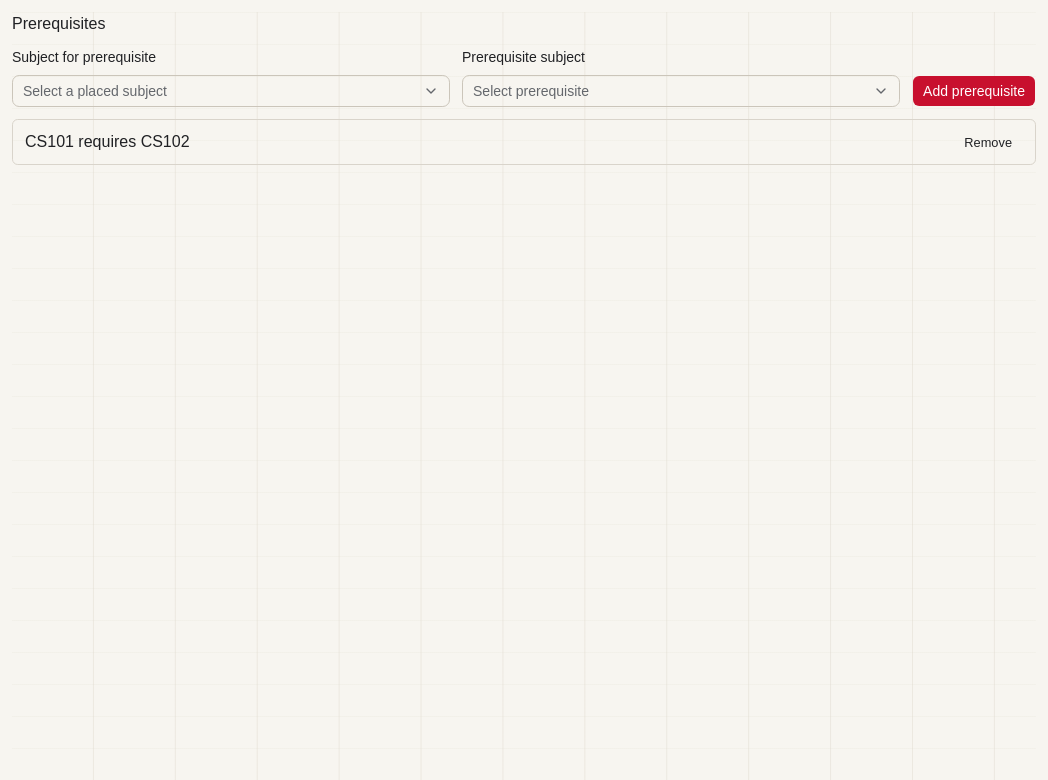
Test: PrerequisiteEditor › prevents duplicate, self, and cyclic prerequisite edges before save
This screenshot has width=1048, height=780.
Click the dropdown named "Subject for prerequisite".
click(95, 91)  # box x1=12 y1=75 x2=450 y2=107
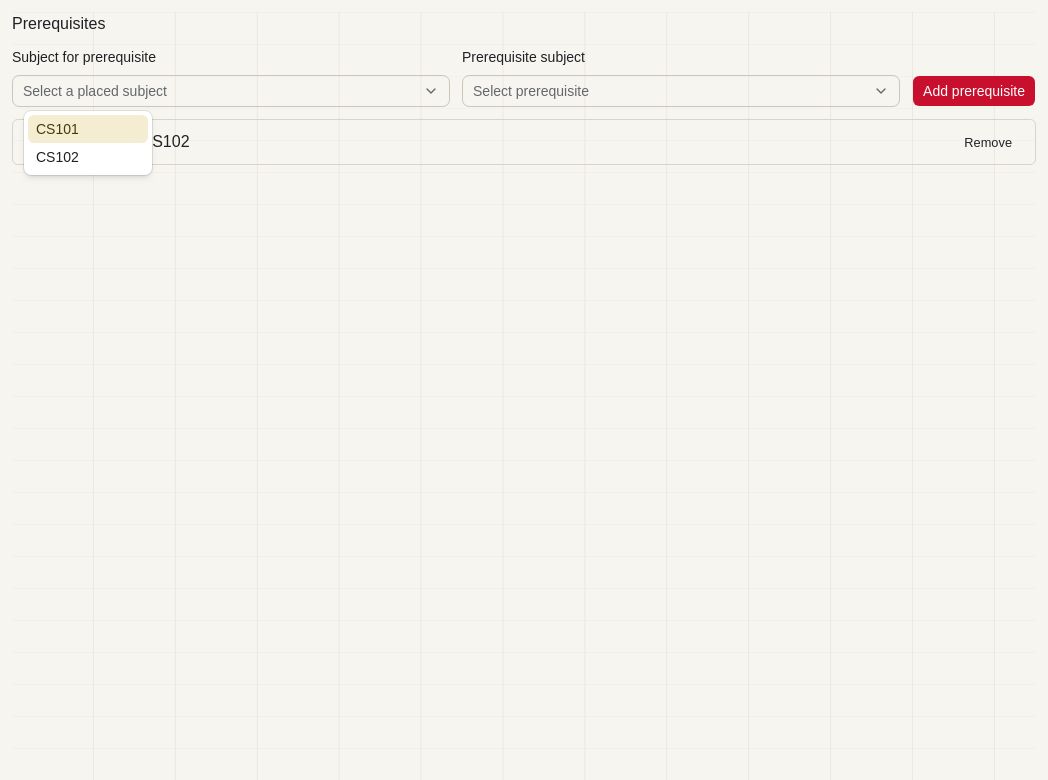
Click the option "CS102".
click(57, 157)  # box x1=36 y1=149 x2=79 y2=165
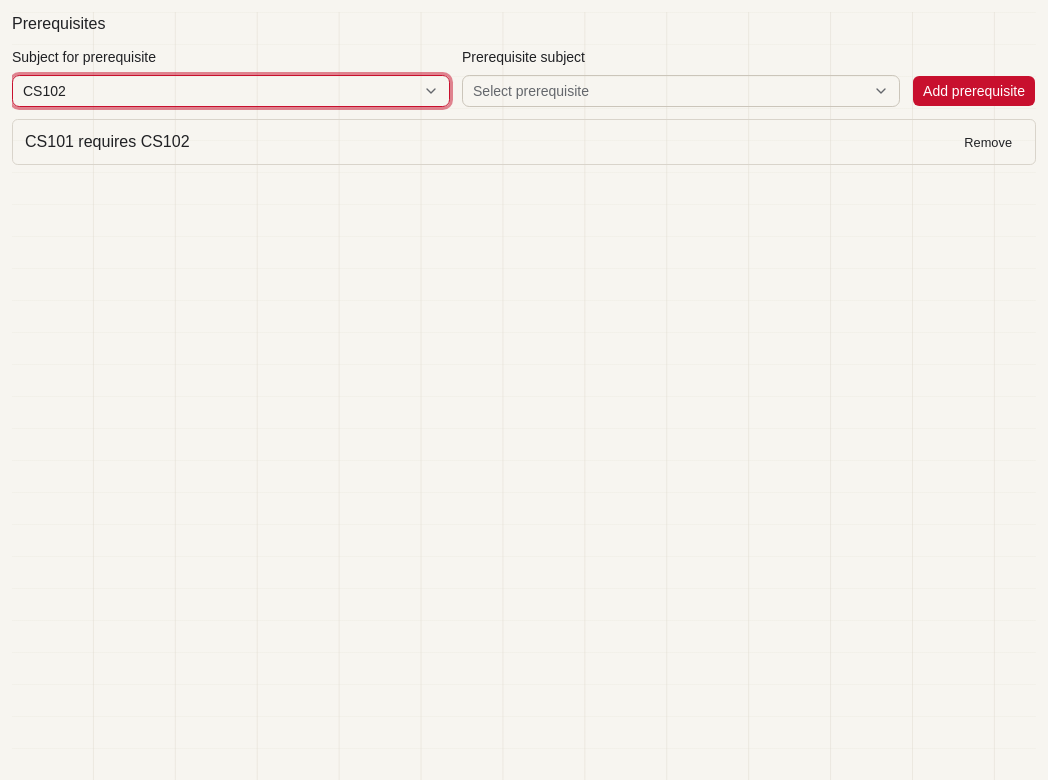
Click the dropdown named "Prerequisite subject".
click(531, 91)  # box x1=462 y1=75 x2=900 y2=107
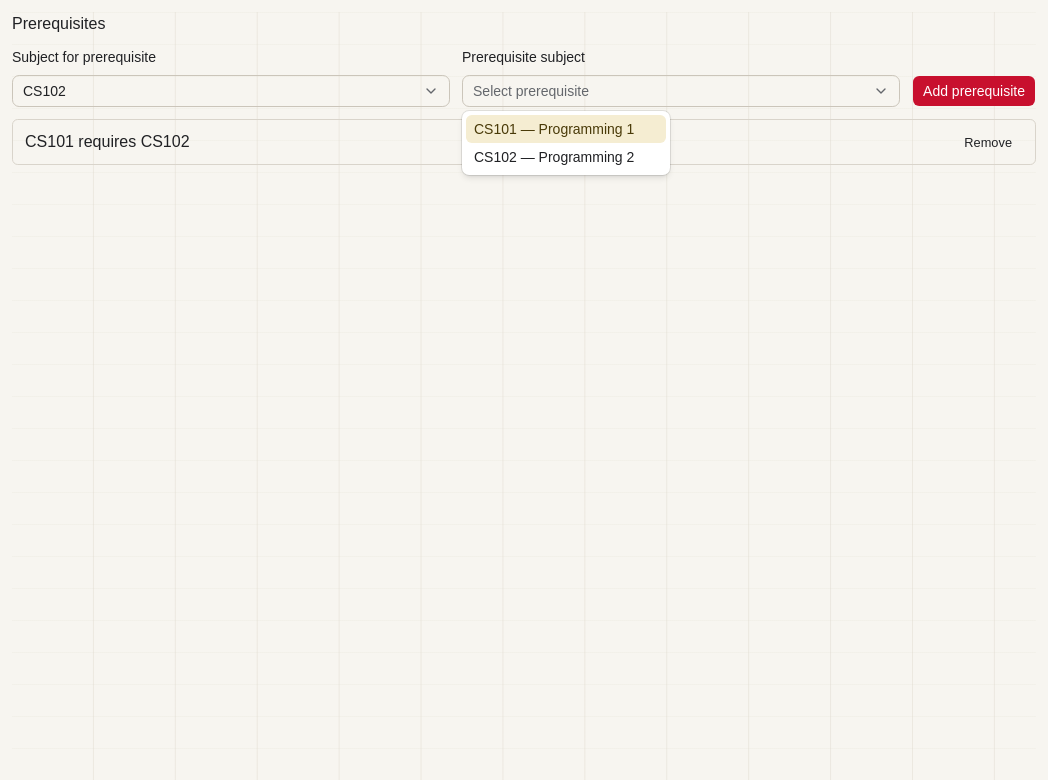
Click the option "CS101 — Programming 1".
click(566, 129)  # box x1=466 y1=115 x2=666 y2=143
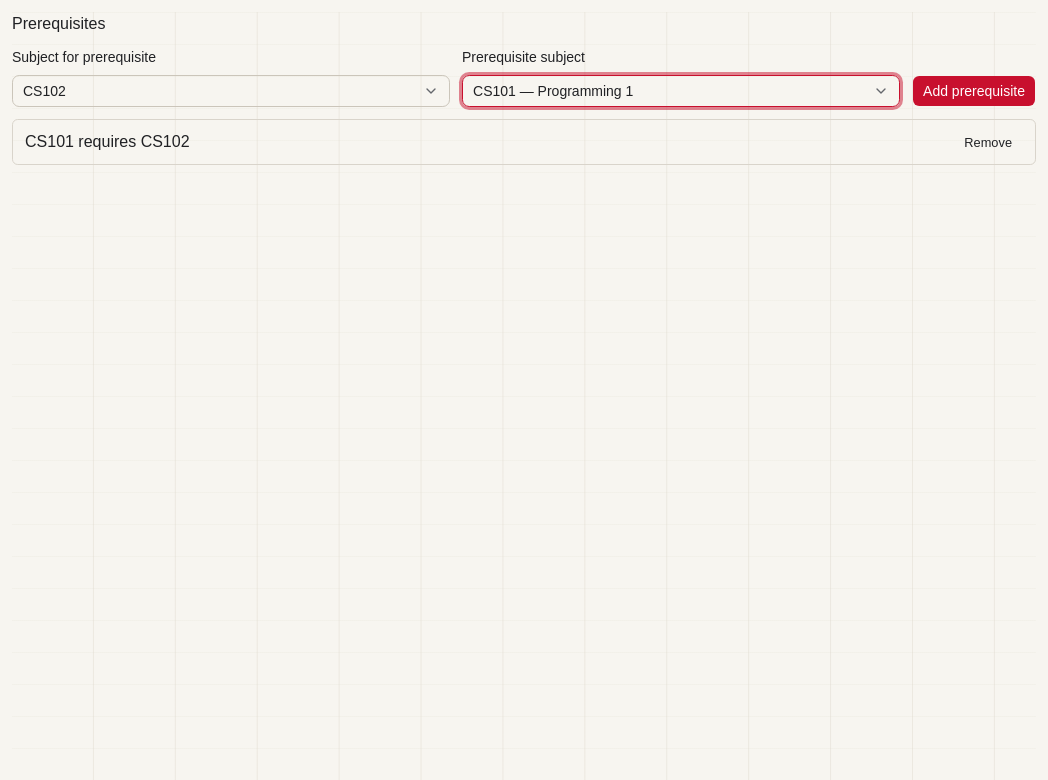
Click the button "Add prerequisite".
click(974, 91)  # box x1=912 y1=75 x2=1036 y2=107
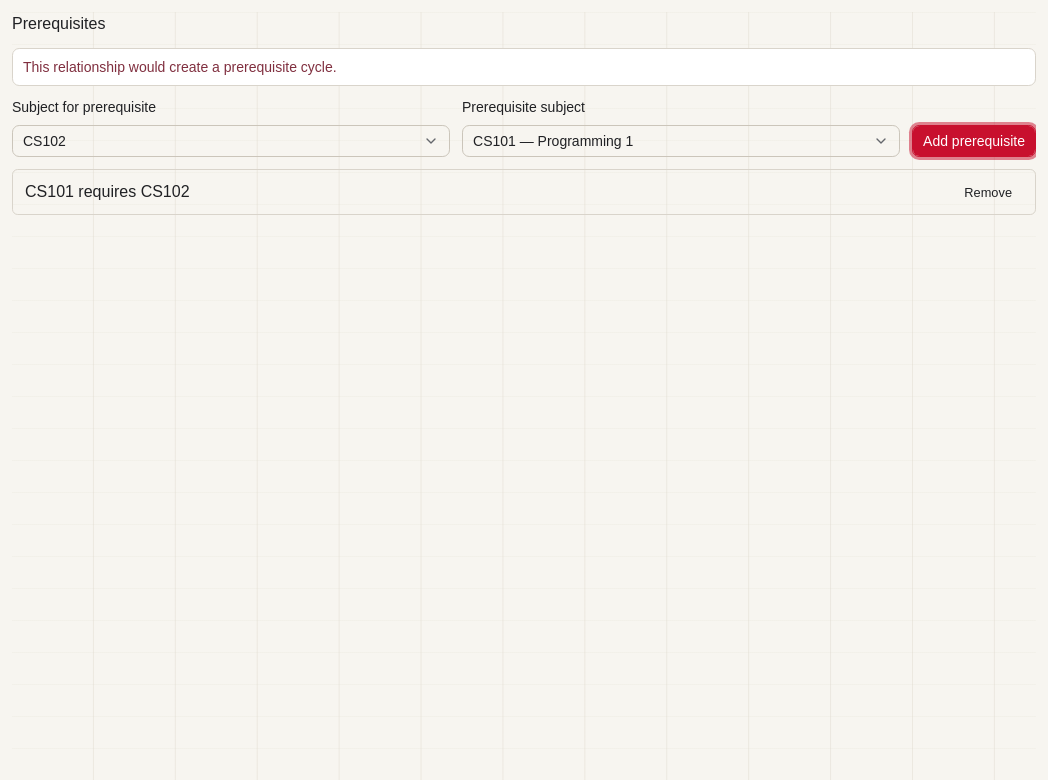
Now the message shows "would create a prerequisite cycle", box x1=23 y1=59 x2=337 y2=75
